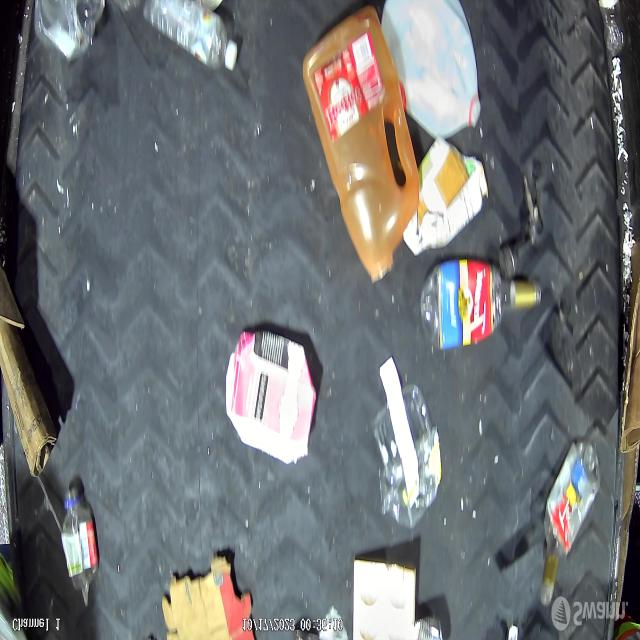milk_jug: (384, 1, 484, 139)
non_white_jug: (302, 5, 418, 282), (223, 326, 317, 464)
plastic_bottle: (420, 260, 537, 352), (541, 438, 599, 582), (144, 0, 240, 77)
